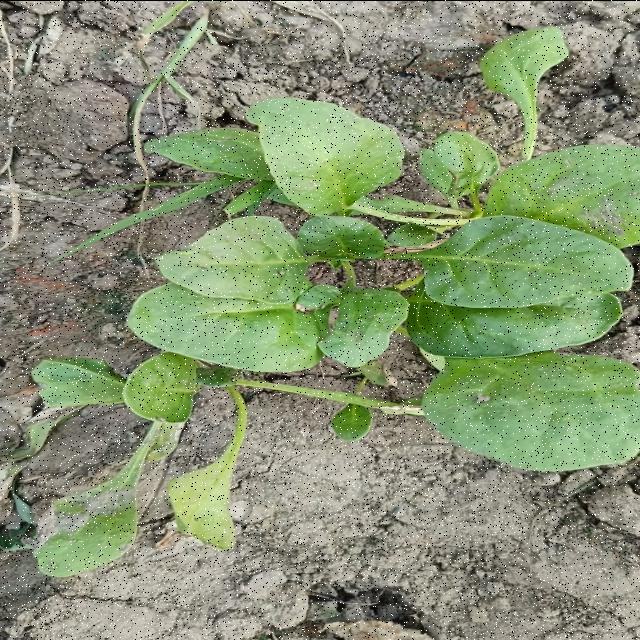plant: (33, 98, 639, 575), (481, 26, 568, 156)
